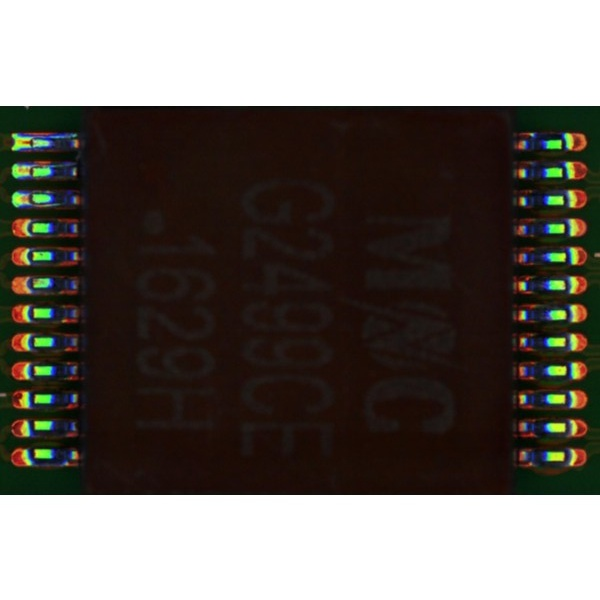Bad_podu: (21, 163, 37, 174), (20, 192, 36, 202), (21, 136, 36, 146)
Bad_qiaojiao: (34, 133, 80, 138), (34, 161, 72, 167), (33, 202, 65, 207)
